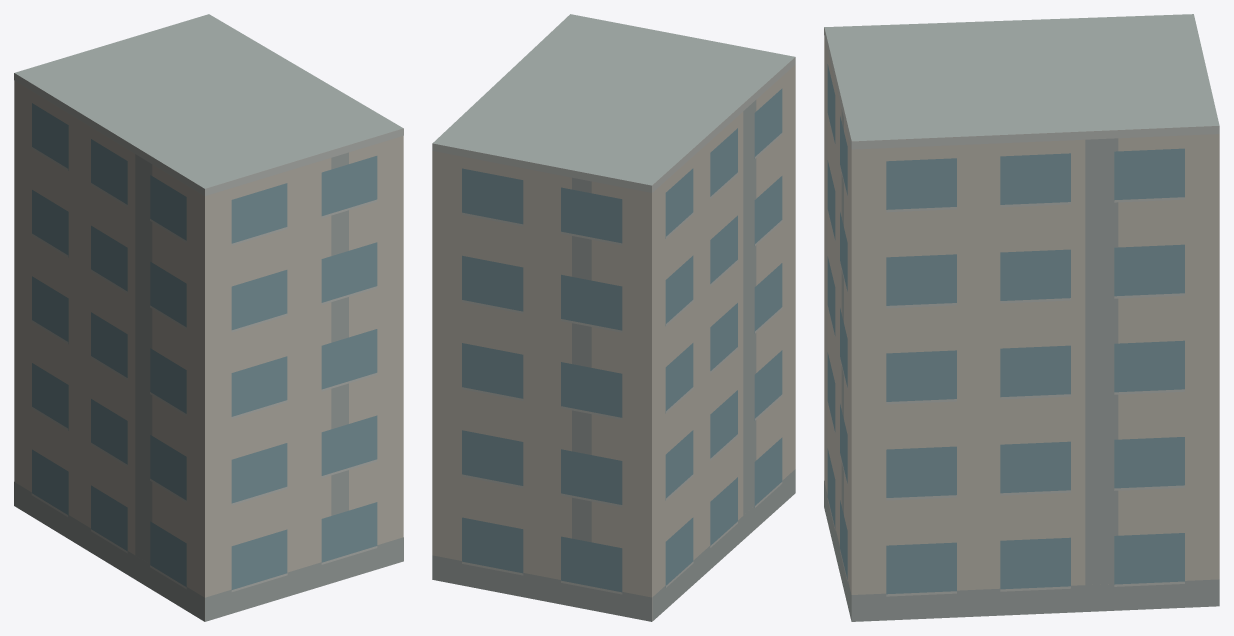
Rendered from survey-upis-32569837.glb.
3 renders of one model, left to right at view 1: azimuth 30°, elevation 25°; view 2: azimuth 150°, elevation 25°; view 3: azimuth 270°, elevation 25°, orthographic. The views are drawn at different scales.
Parts seen in each view (by area): view 1: survey-upis-32569837.tmp; view 2: survey-upis-32569837.tmp; view 3: survey-upis-32569837.tmp.
Boxes of the visible parts, left/top/right/bottom form: survey-upis-32569837.tmp: left=14, top=14, right=403, bottom=621; survey-upis-32569837.tmp: left=432, top=14, right=795, bottom=621; survey-upis-32569837.tmp: left=824, top=14, right=1219, bottom=621.
Bounding box in the file's own units: 8.11 × 14.25 × 10.64.
